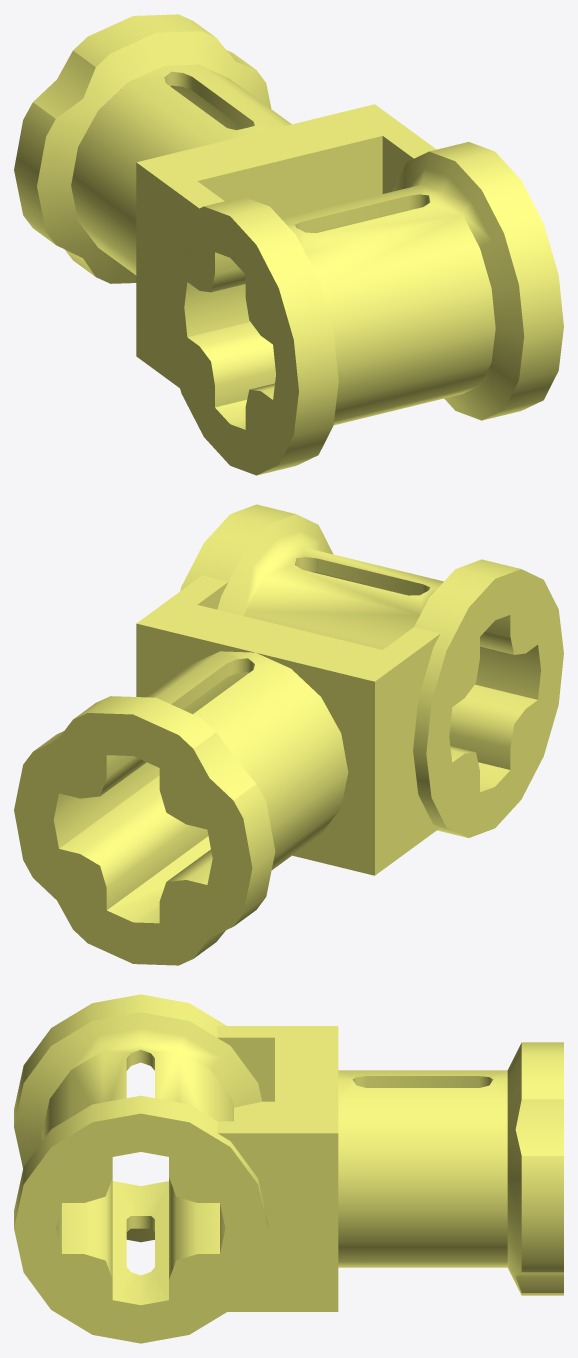
The picture shows the model from 3 angles, top to bottom: view 1: azimuth 30°, elevation 25°; view 2: azimuth 150°, elevation 25°; view 3: azimuth 270°, elevation 25°; orthographic projection. The views are drawn at different scales.
Visible parts, largest first — view 1: 32039.dat; view 2: 32039.dat; view 3: 32039.dat.
Part boxes in pixels (x1,y1,x2,y2): 32039.dat: [14, 14, 563, 475]; 32039.dat: [14, 504, 563, 965]; 32039.dat: [14, 994, 563, 1343].
Size of the model in its own units: 0.008 by 0.0072 by 0.0156.
